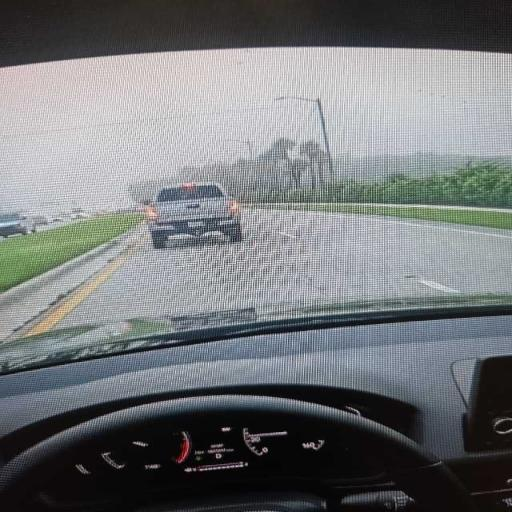car: (0, 0, 511, 511), (146, 184, 242, 248), (0, 213, 35, 236), (32, 215, 51, 225)
lane: (57, 210, 511, 326)
